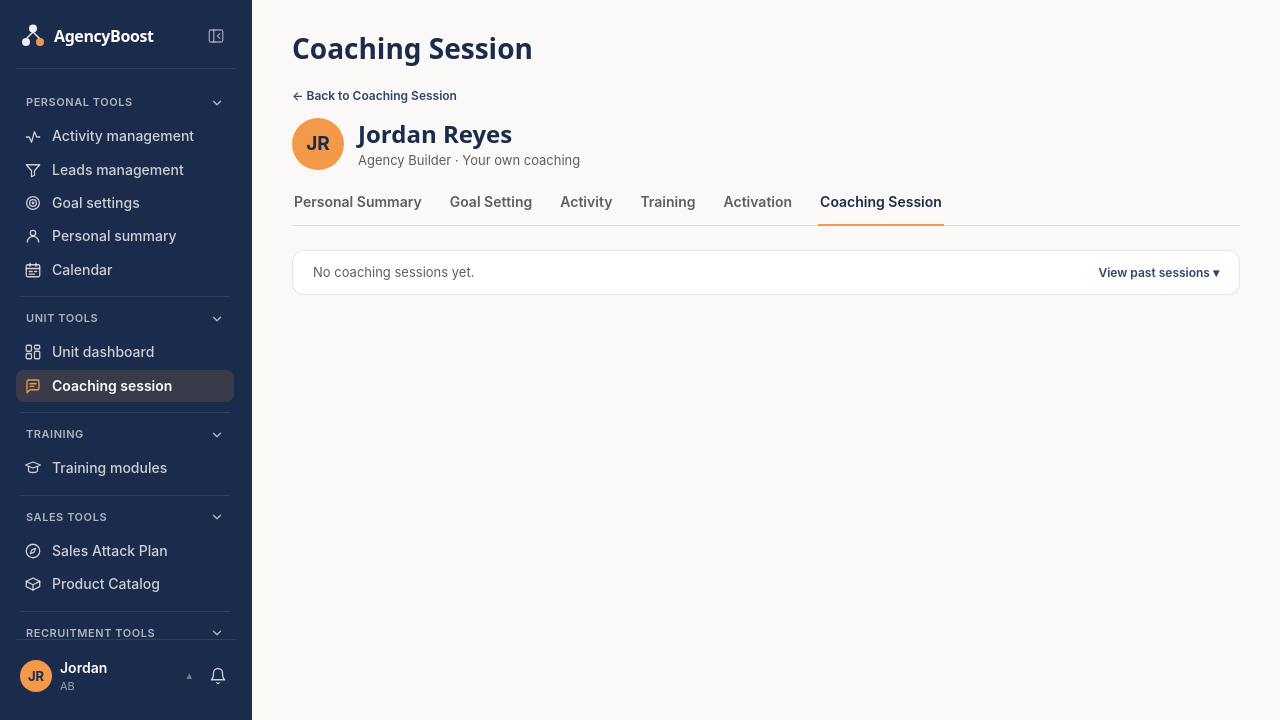
Test: /coaching/me, the sessions the reader led with somebody they no longer coach (P11-T10 AC-10) › P11-T10 AC-10 offers the list to a former coach who has no session of their own
Expected: the text "No coaching sessions yet." is shown, [313,263,474,282]
Click the button "View past sessions ▾": (1159, 273) [1098,264,1219,281]
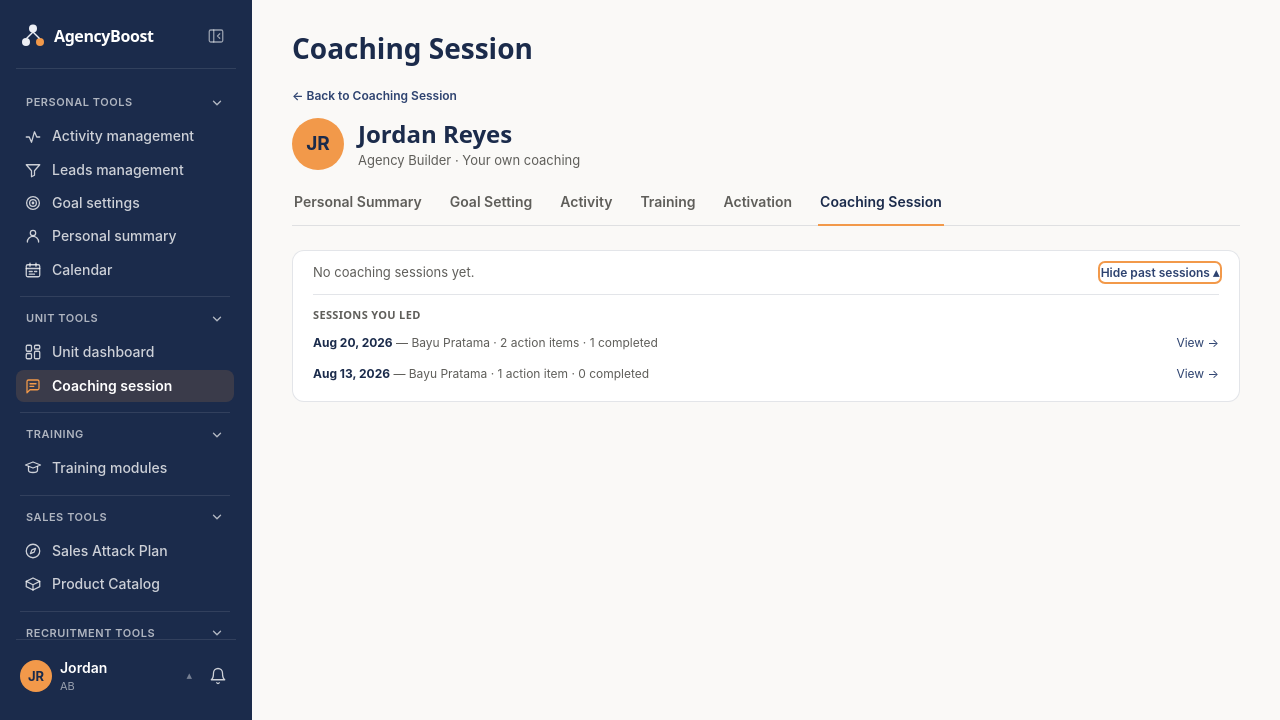
Now the heading "Sessions you led" is shown, box [313,307,421,322]
